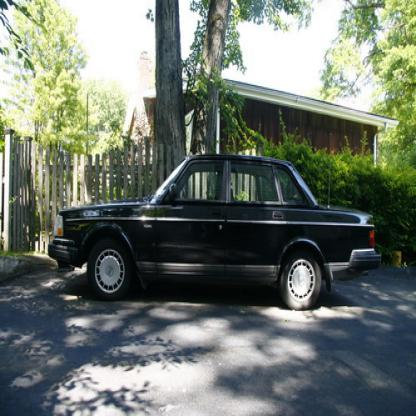Vehicle: (46, 150, 380, 315)
